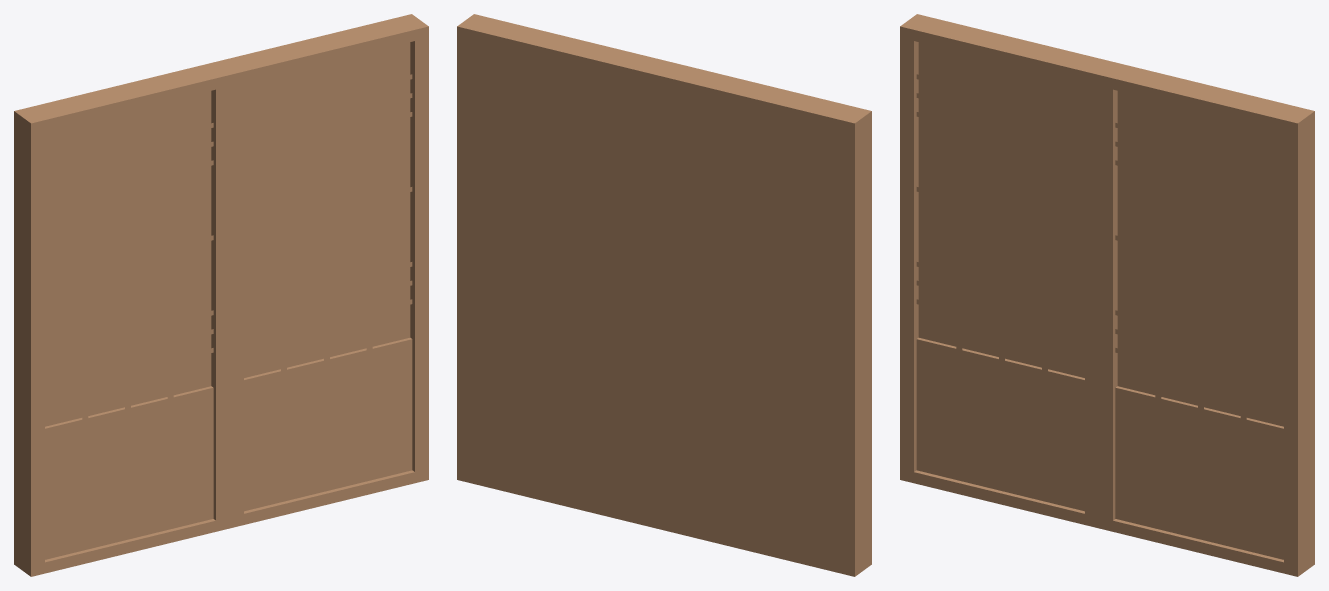
The model's file is Village_Door_A.fbx.
3 views of the same model, side by side, from view 1: azimuth 30°, elevation 25°; view 2: azimuth 150°, elevation 25°; view 3: azimuth 330°, elevation 25° (orthographic).
Visible parts, largest first — view 1: Village_Door_A.001; view 2: Village_Door_A.001; view 3: Village_Door_A.001.
Boxes of the visible parts, left/top/right/bottom form: Village_Door_A.001: left=14, top=14, right=428, bottom=576; Village_Door_A.001: left=457, top=14, right=871, bottom=576; Village_Door_A.001: left=900, top=14, right=1314, bottom=576.
Size of the model in its own units: 165 by 180 by 12.24.
